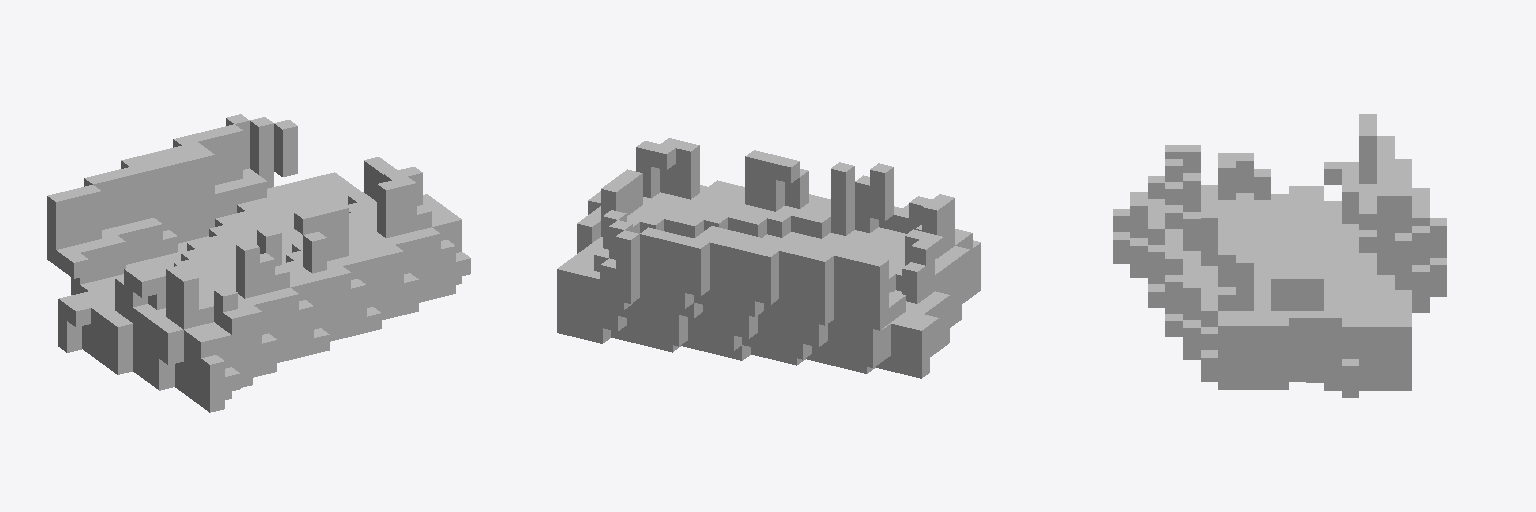
Rendered from Mouth1.obj.
3 views of the same model, side by side, from view 1: azimuth 30°, elevation 25°; view 2: azimuth 150°, elevation 25°; view 3: azimuth 270°, elevation 25° (orthographic).
Visible parts, largest first — view 1: object 1; view 2: object 1; view 3: object 1.
Part boxes in pixels (bbox=[...]): object 1: bbox=[47, 114, 470, 412]; object 1: bbox=[557, 138, 980, 378]; object 1: bbox=[1113, 114, 1446, 397].
Bounding box in the file's own units: 2.3 × 0.8 × 1.9.